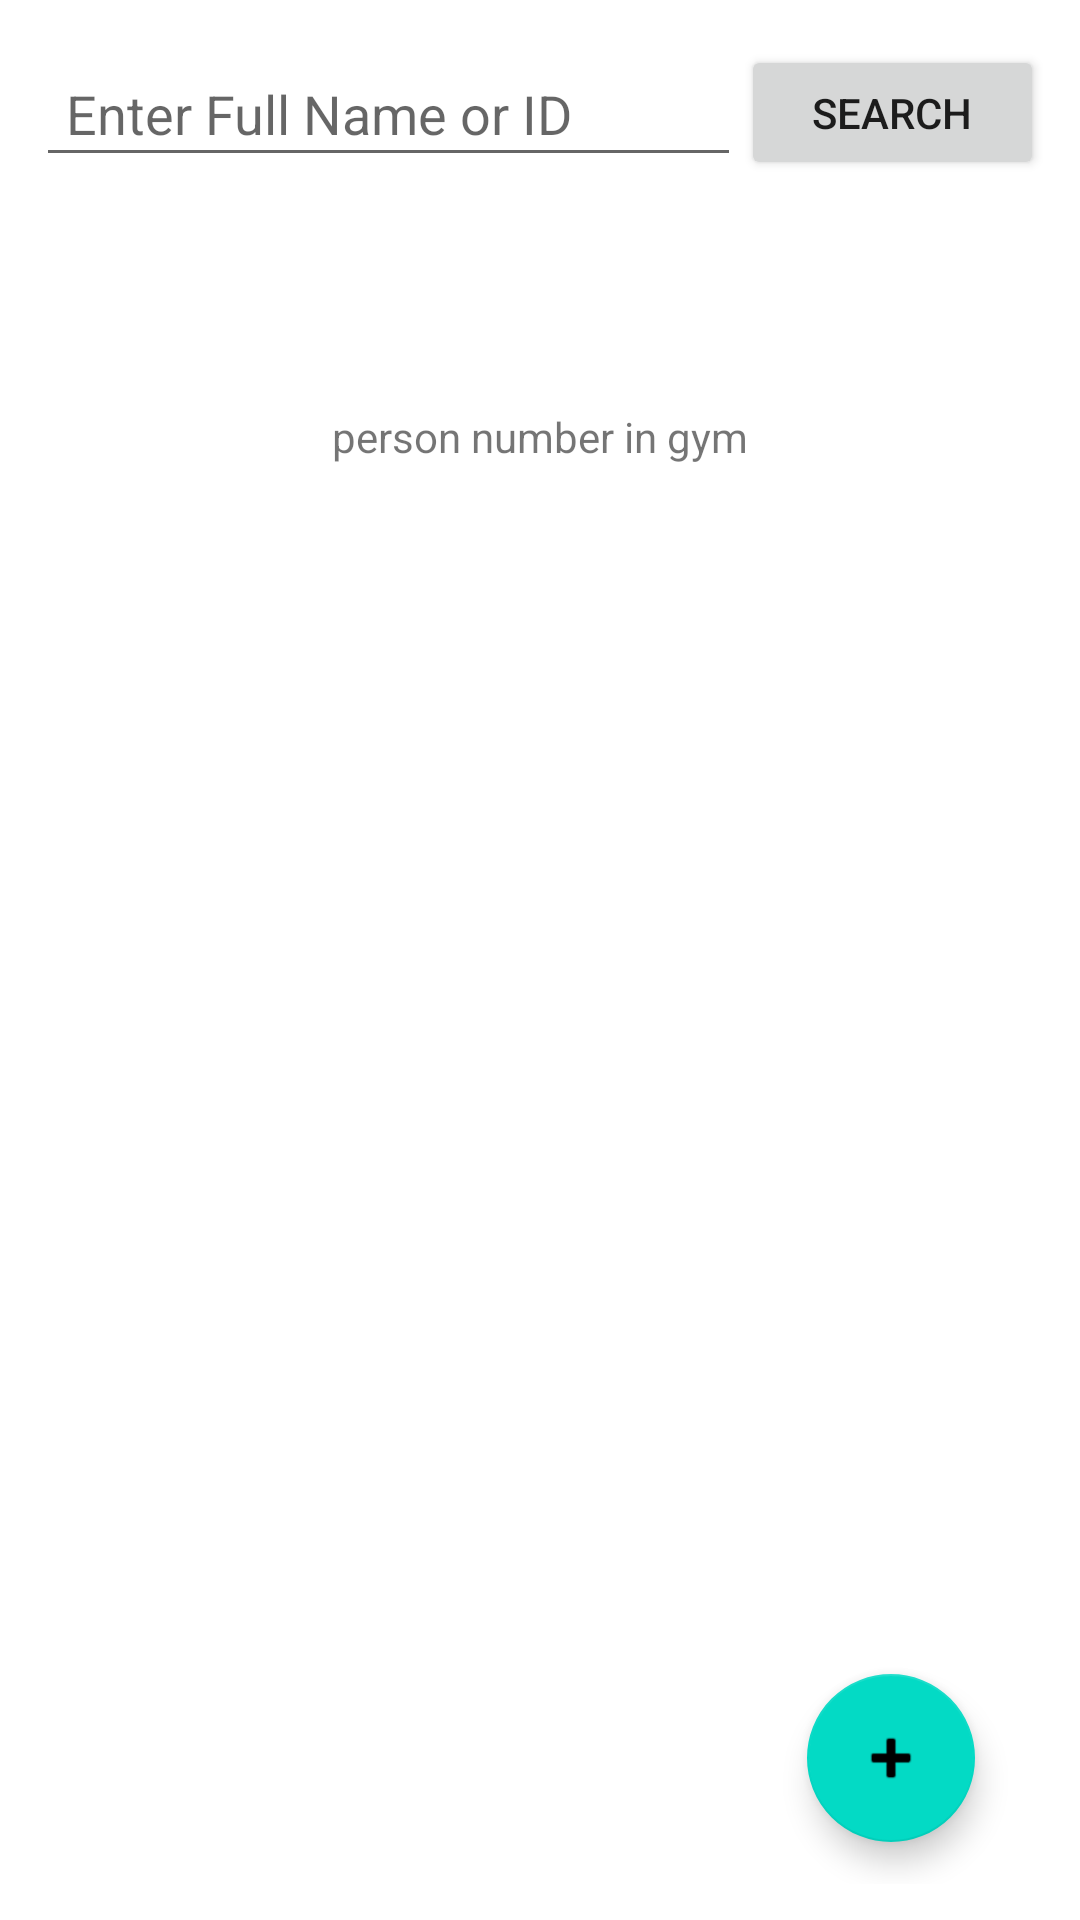

Icons on this 1080px×1920px Android screen, each with its box as Rect(x1, y1, x2, y2):
add: Rect(807, 1674, 975, 1842)
